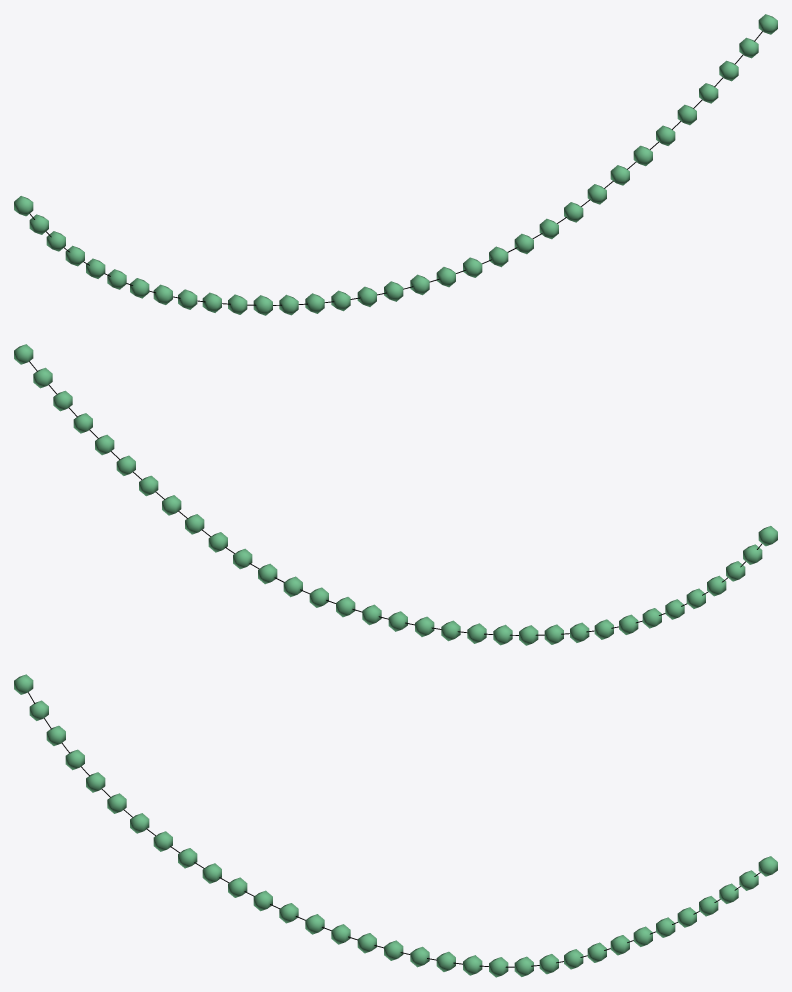
Rendered from garland street.FBX.
3 renders of one model, top to bottom at view 1: azimuth 30°, elevation 25°; view 2: azimuth 150°, elevation 25°; view 3: azimuth 330°, elevation 25°, orthographic.
Parts seen in each view (by area): view 1: garland street; view 2: garland street; view 3: garland street.
Boxes of the visible parts, box(x1,y1,x2,y2) form: garland street: box(14, 14, 777, 315); garland street: box(14, 344, 777, 645); garland street: box(14, 674, 777, 977).
Bounding box in the file's own units: 8.15 × 1.98 × 0.2.
